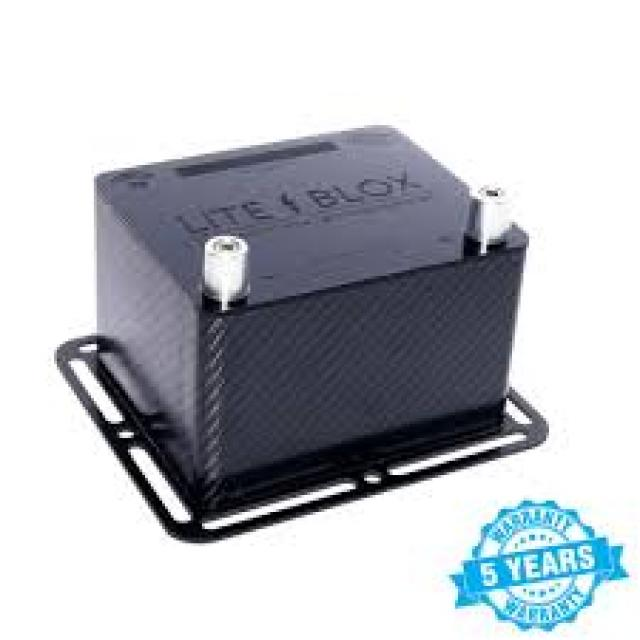non-organic waste: (58, 124, 548, 543)
